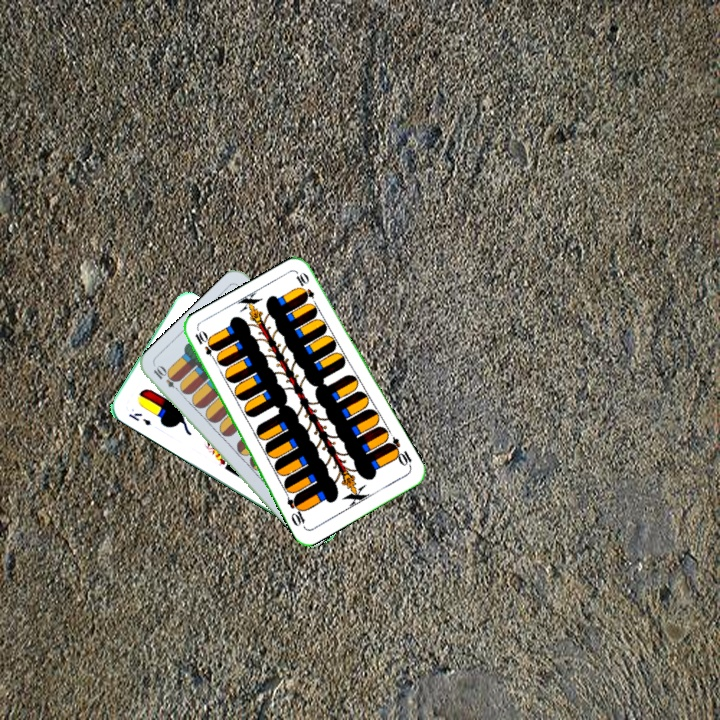E10: (384, 433, 415, 471), (149, 362, 184, 395), (191, 327, 220, 365)
EK: (124, 409, 153, 428)
